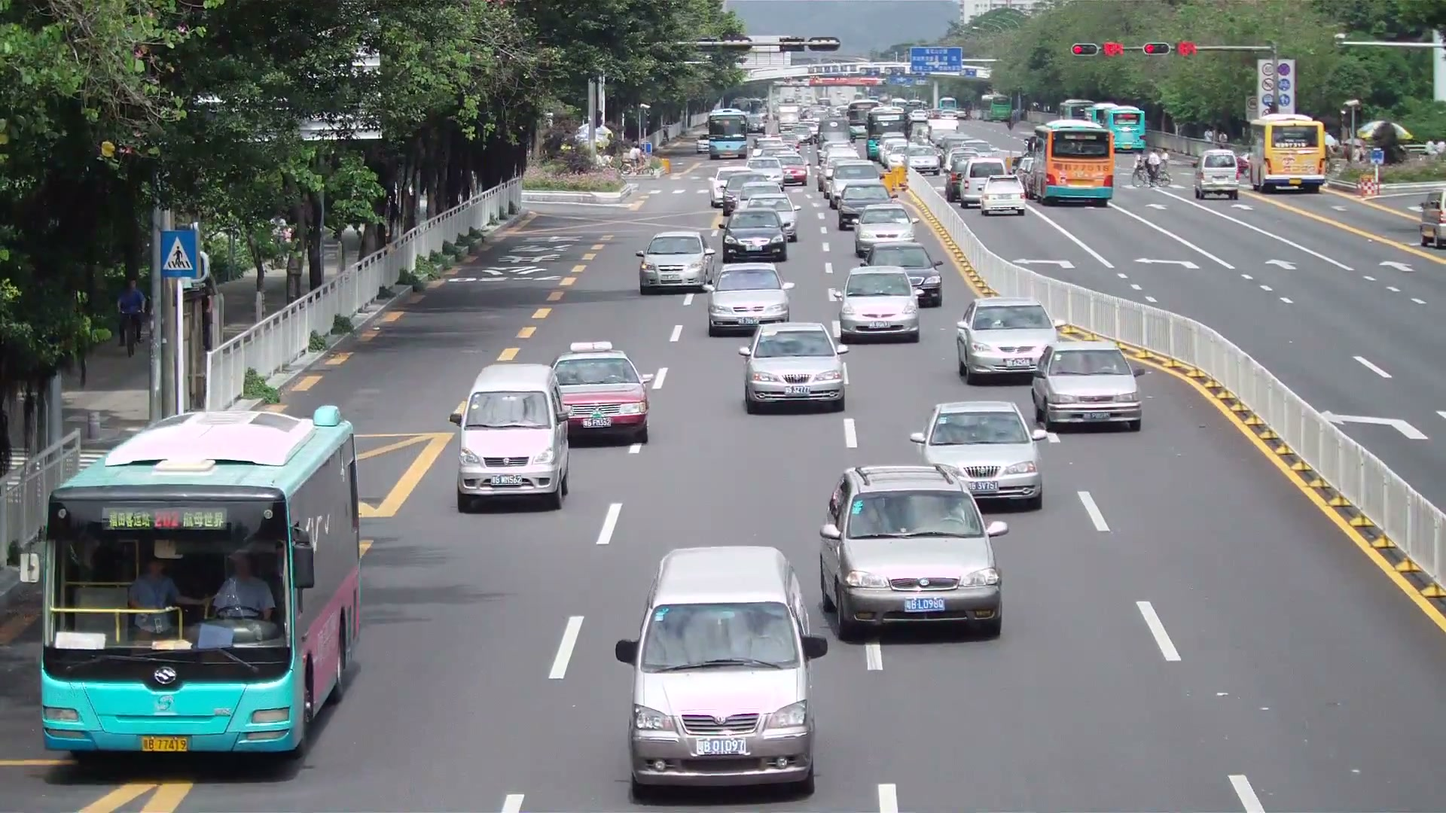bus: (37, 400, 365, 760), (1056, 100, 1147, 152)
car: (616, 544, 826, 798), (817, 463, 1006, 642), (449, 362, 573, 513), (912, 399, 1048, 510), (1030, 341, 1143, 433), (740, 320, 849, 413), (551, 349, 650, 448), (953, 297, 1060, 385), (838, 266, 921, 345), (706, 264, 791, 336), (865, 241, 944, 308), (636, 228, 715, 295), (853, 203, 916, 262), (722, 210, 788, 261)
pedestrian: (211, 550, 277, 620), (128, 555, 178, 608), (117, 279, 145, 354)
truck: (1029, 121, 1114, 206), (1244, 114, 1331, 193), (1059, 100, 1149, 152), (1195, 147, 1243, 199)
